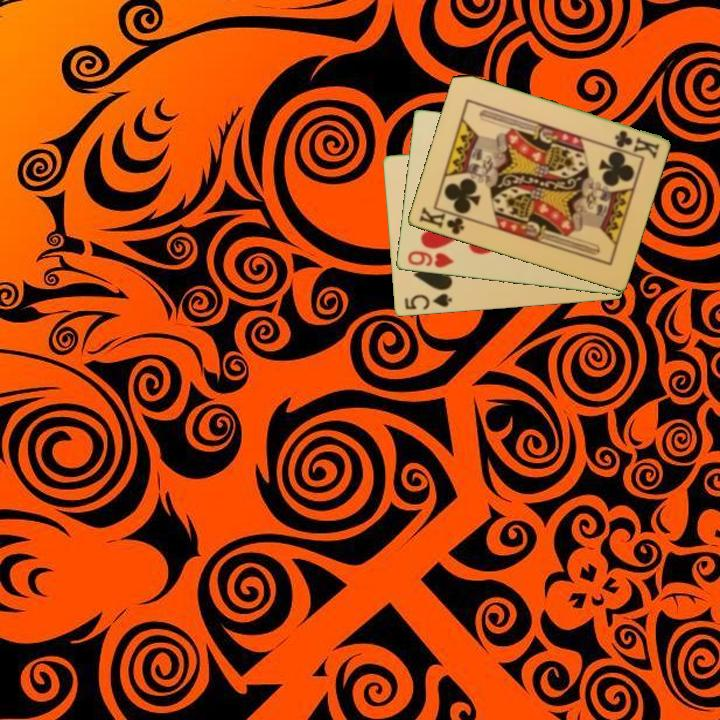5s: (401, 290, 455, 313)
9h: (404, 247, 456, 271)
Kc: (415, 204, 472, 238), (611, 127, 662, 161)
